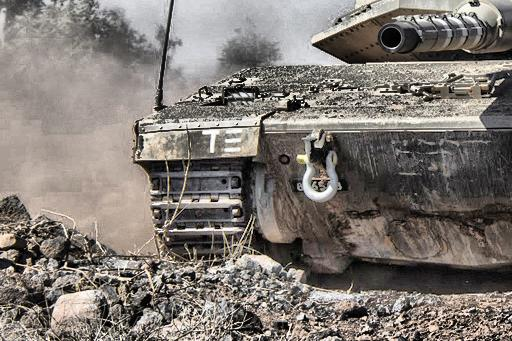tanks: (135, 1, 512, 268)
